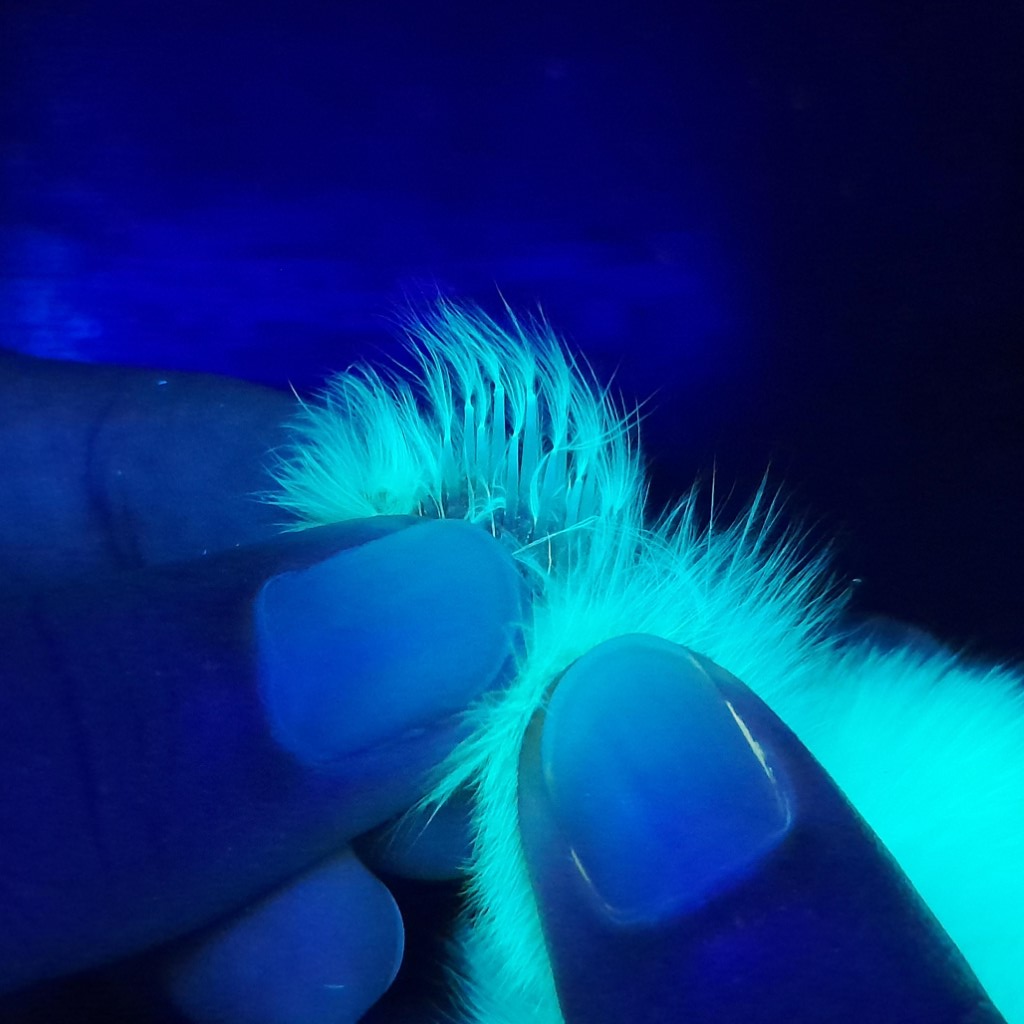female: (418, 358, 642, 628)
